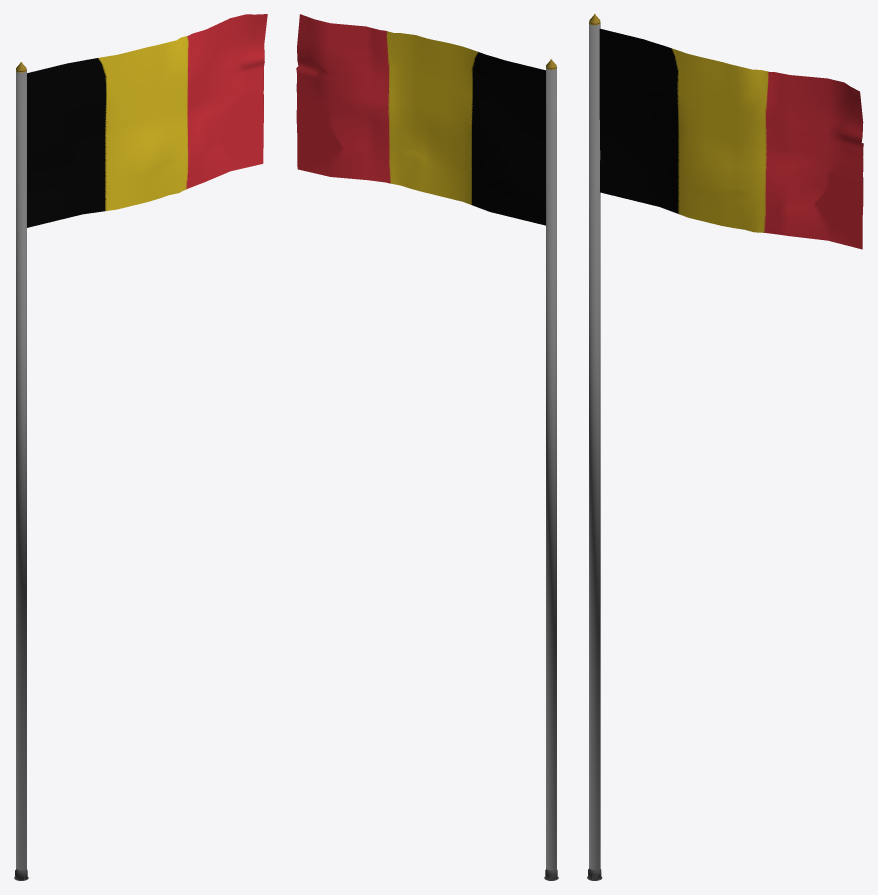
The model's file is flagbelgium.fbx.
3 renders of one model, left to right at view 1: azimuth 30°, elevation 25°; view 2: azimuth 150°, elevation 25°; view 3: azimuth 330°, elevation 25°, orthographic. The views are drawn at different scales.
Parts seen in each view (by area): view 1: Plane; view 2: Plane; view 3: Plane.
Boxes of the visible parts, x1,y1,x2,y2 form: Plane: (14,14,267,880); Plane: (296,14,558,880); Plane: (587,14,863,880).
Bounding box in the file's own units: 145 × 443 × 12.33.
